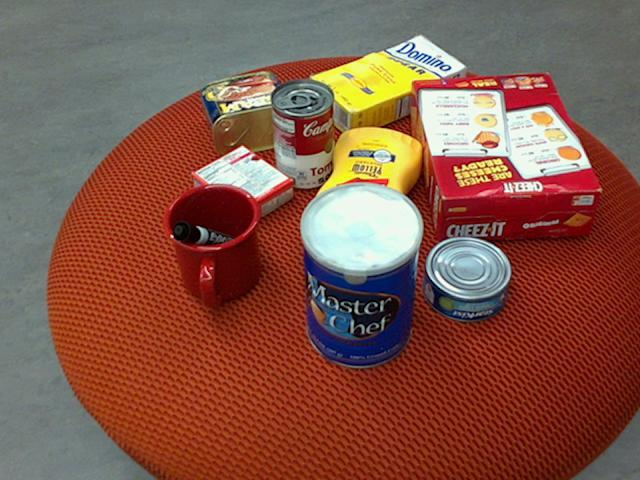cracker_box: (409, 72, 601, 240)
gelatin_box: (190, 144, 291, 230)
large_marker: (171, 222, 247, 256)
master_chef_can: (298, 184, 420, 369)
mug: (161, 184, 261, 308)
mustard_bottle: (312, 126, 423, 272)
potted_meat_can: (202, 70, 301, 156)
sugar_box: (308, 34, 466, 137)
tomato_soup_can: (271, 77, 335, 188)
tuna_fish_can: (422, 235, 512, 322)
